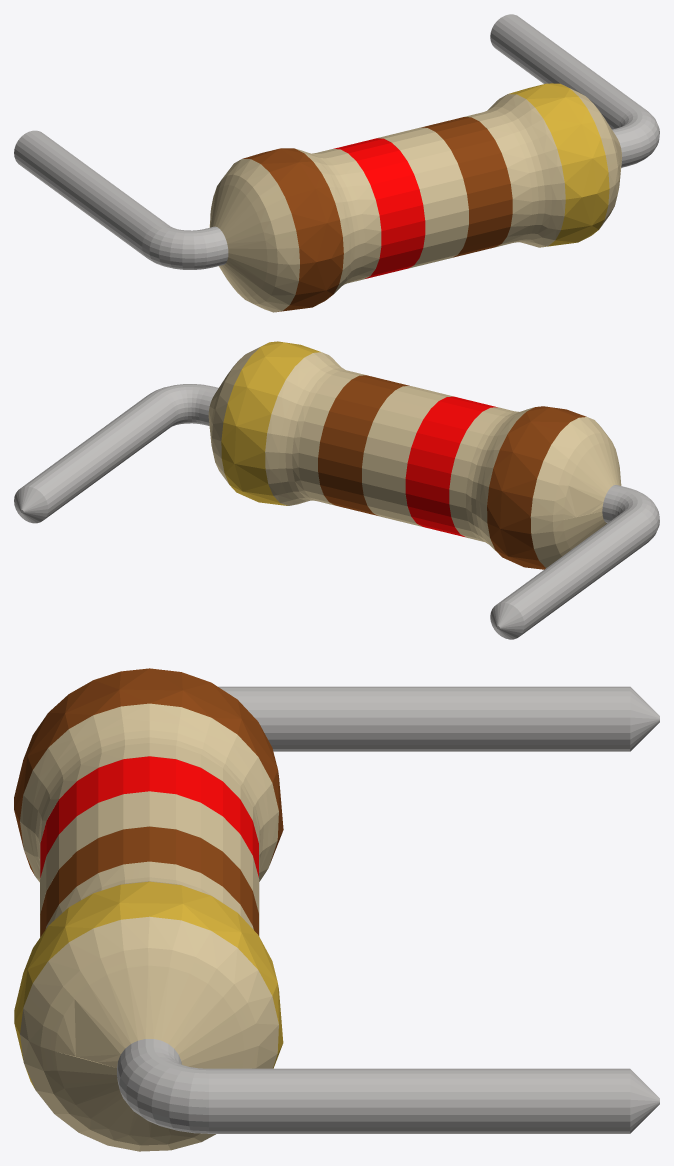
Rendered from Yageo CFR-25 Resistor Axial P7.62mm 120,0 Ohm.obj.
The picture shows the model from 3 angles, top to bottom: view 1: azimuth 30°, elevation 25°; view 2: azimuth 150°, elevation 25°; view 3: azimuth 270°, elevation 25°; orthographic projection. The views are drawn at different scales.
Visible parts, largest first — view 1: Yageo_CFR-25_Resistor_Axial_P7.62mm_120,0_Ohm; view 2: Yageo_CFR-25_Resistor_Axial_P7.62mm_120,0_Ohm; view 3: Yageo_CFR-25_Resistor_Axial_P7.62mm_120,0_Ohm.
Part boxes in pixels (bbox=[...]): Yageo_CFR-25_Resistor_Axial_P7.62mm_120,0_Ohm: bbox=[14, 14, 659, 312]; Yageo_CFR-25_Resistor_Axial_P7.62mm_120,0_Ohm: bbox=[14, 341, 659, 639]; Yageo_CFR-25_Resistor_Axial_P7.62mm_120,0_Ohm: bbox=[14, 668, 659, 1151].
Bounding box in the file's own units: 0.0165 × 0.00455 × 0.011.
